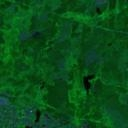alloviz: (82, 73, 96, 91), (33, 108, 41, 122), (94, 6, 101, 14)
